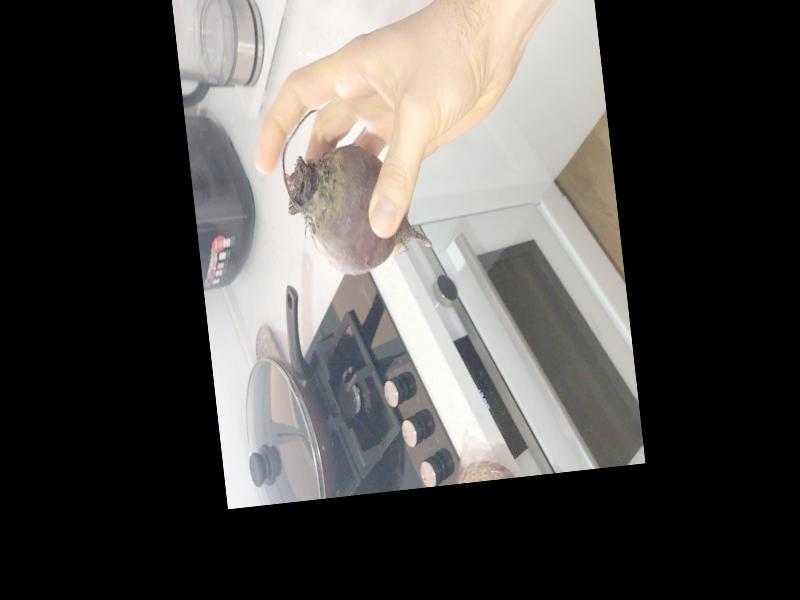Beet: (277, 100, 433, 280)
